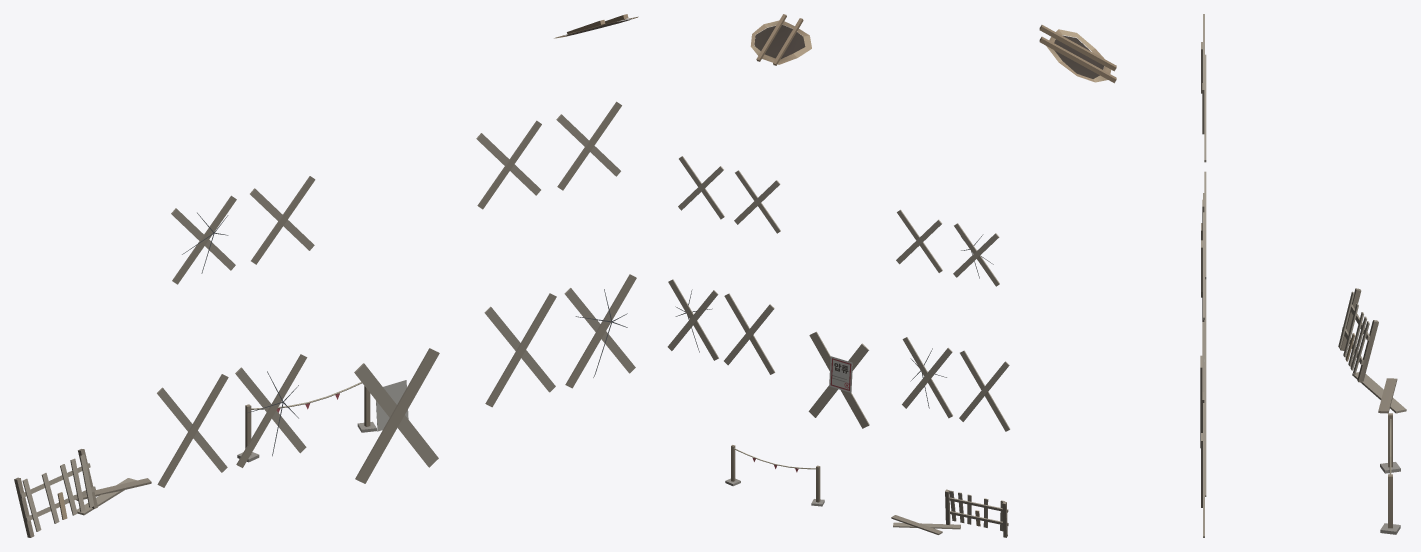
File: house_seized_manor2_low.glb
3 renders of one model, left to right at view 1: azimuth 30°, elevation 25°; view 2: azimuth 150°, elevation 25°; view 3: azimuth 270°, elevation 25°, orthographic. The views are drawn at different scales.
Size of the model in its own units: 9.66 by 8.72 by 5.32.
